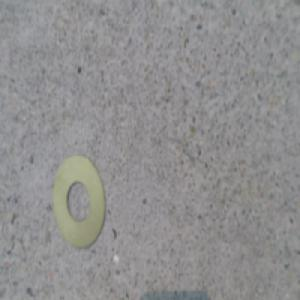Washer: (51, 155, 106, 251)
